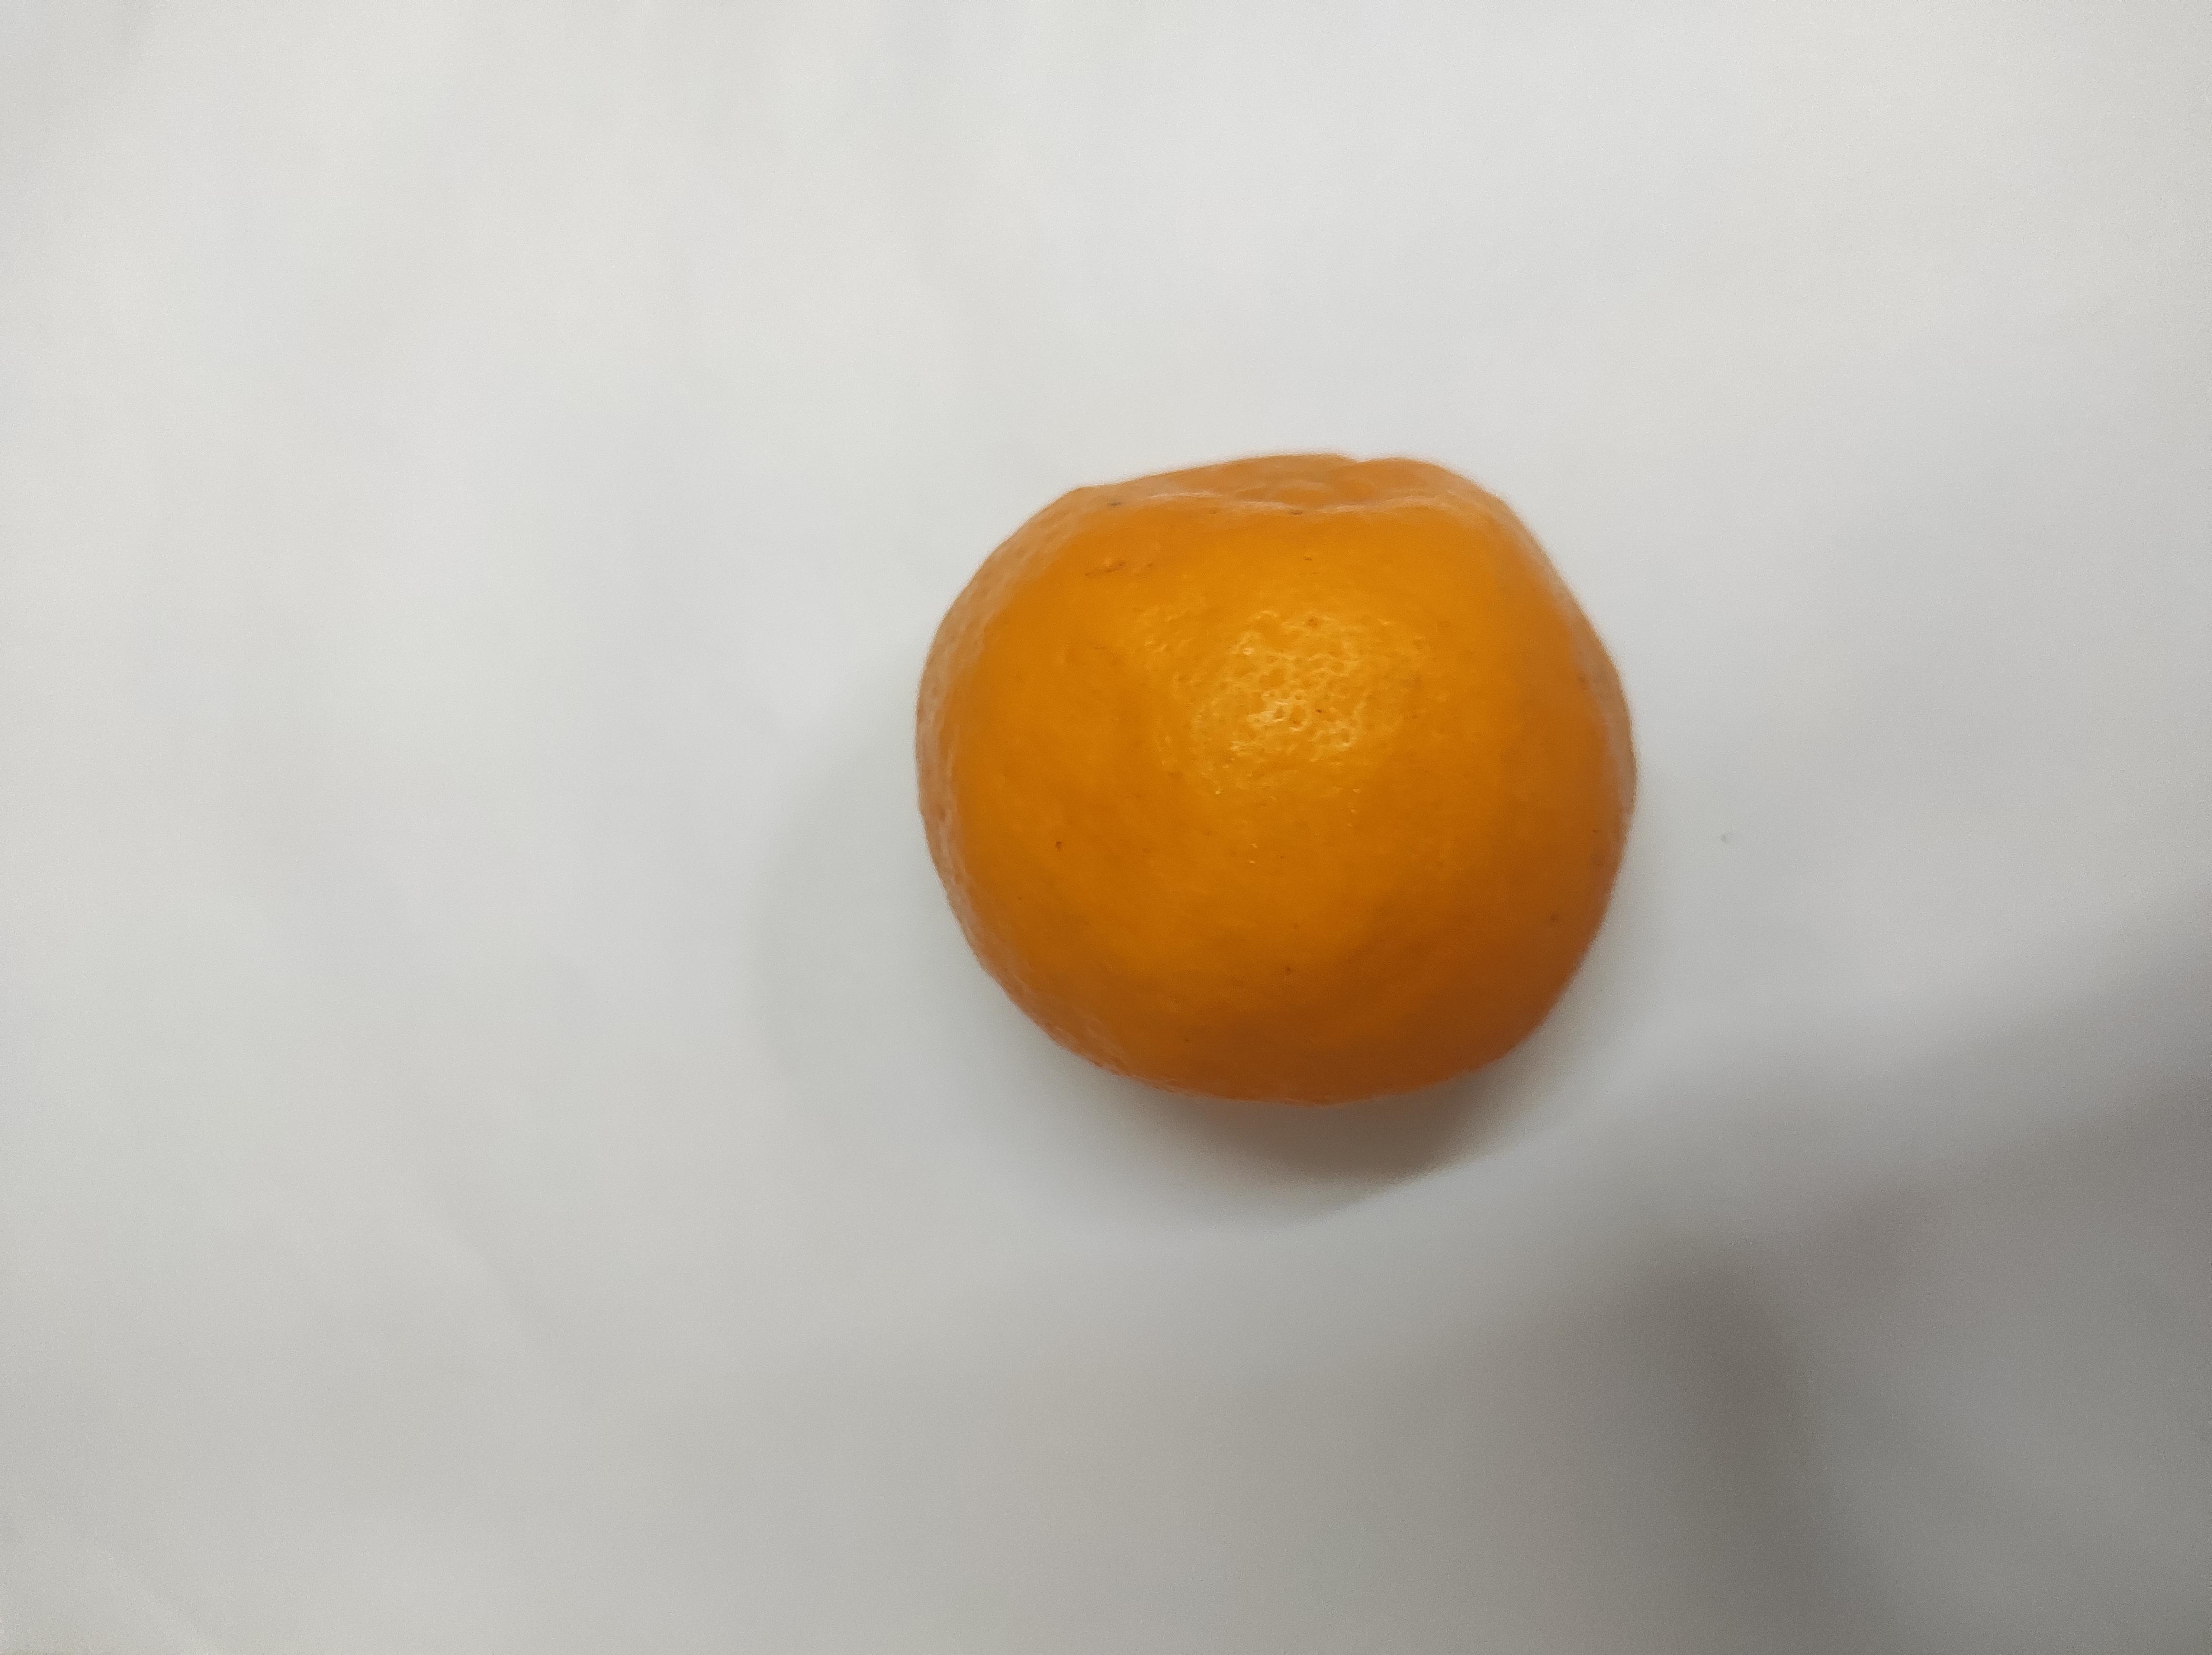Ripe: (915, 449, 1645, 1100)
